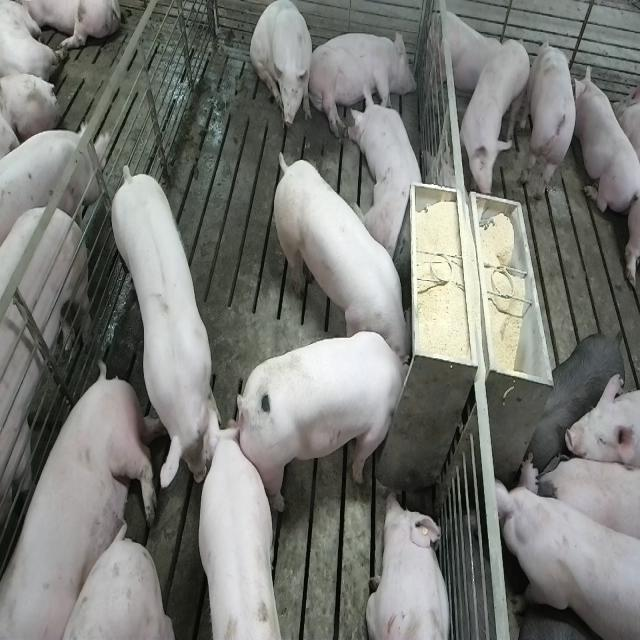Feeding: (240, 330, 420, 512), (270, 145, 411, 363)
Lateral_lying: (307, 28, 416, 140)
Sitting: (250, 3, 314, 137)
Standing: (0, 196, 92, 640), (106, 157, 220, 486), (493, 458, 638, 640), (190, 415, 281, 640), (0, 115, 107, 246), (527, 330, 624, 460), (456, 35, 532, 194), (537, 449, 640, 551), (527, 35, 580, 199)
Sternal_lying: (349, 84, 429, 258), (366, 490, 454, 640), (572, 64, 637, 214), (427, 4, 510, 102)
